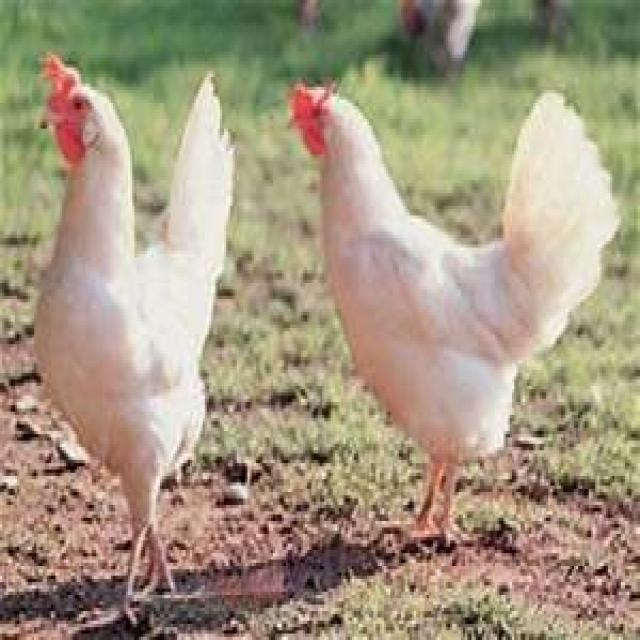hen: (288, 80, 621, 550), (32, 55, 237, 627)
